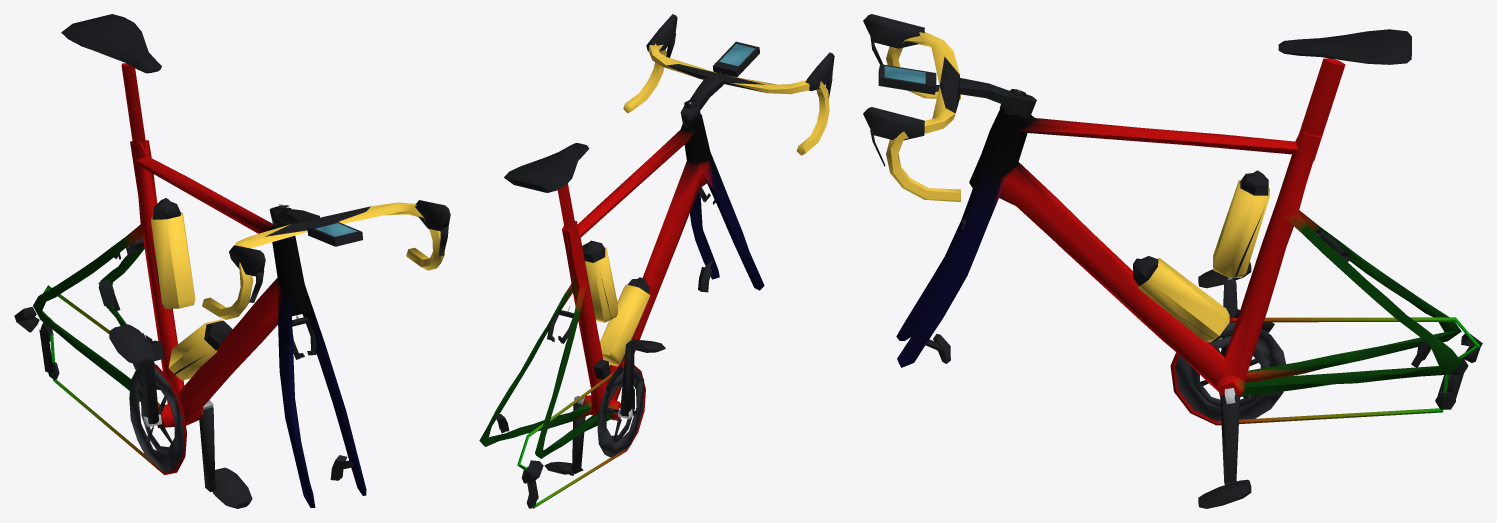
The model's file is aero_lod1.glb.
The picture shows the model from 3 angles, left to right: view 1: azimuth 30°, elevation 25°; view 2: azimuth 150°, elevation 25°; view 3: azimuth 270°, elevation 25°; orthographic projection. The views are drawn at different scales.
Parts seen in each view (by area): view 1: frame, cockpit, opt_bottles, crankset, saddle, pedal_R, opt_derailleur, pedal_L, opt_brakes_disc, opt_brakes_rim; view 2: frame, cockpit, opt_bottles, crankset, saddle, opt_derailleur, opt_brakes_disc, opt_brakes_rim; view 3: frame, cockpit, opt_bottles, crankset, saddle, opt_derailleur, pedal_L, opt_brakes_disc.
Boxes of the visible parts, x1=… form: frame: x1=33, y1=63, x2=366, y2=507; cockpit: x1=202, y1=200, x2=450, y2=319; opt_bottles: x1=149, y1=198, x2=232, y2=380; crankset: x1=129, y1=335, x2=215, y2=492; saddle: x1=61, y1=14, x2=161, y2=73; pedal_R: x1=109, y1=324, x2=155, y2=365; opt_derailleur: x1=14, y1=306, x2=164, y2=379; pedal_L: x1=212, y1=467, x2=252, y2=508; opt_brakes_disc: x1=98, y1=280, x2=353, y2=480; opt_brakes_rim: x1=114, y1=237, x2=316, y2=359; frame: x1=479, y1=114, x2=764, y2=508; cockpit: x1=623, y1=14, x2=834, y2=155; opt_bottles: x1=582, y1=240, x2=650, y2=366; crankset: x1=572, y1=340, x2=644, y2=473; saddle: x1=504, y1=143, x2=589, y2=192; opt_derailleur: x1=521, y1=359, x2=622, y2=508; opt_brakes_disc: x1=495, y1=260, x2=713, y2=433; opt_brakes_rim: x1=547, y1=187, x2=715, y2=343; frame: x1=896, y1=58, x2=1480, y2=425; cockpit: x1=863, y1=14, x2=1036, y2=201; opt_bottles: x1=1133, y1=170, x2=1269, y2=342; crankset: x1=1175, y1=279, x2=1285, y2=484; saddle: x1=1278, y1=29, x2=1411, y2=64; opt_derailleur: x1=1234, y1=309, x2=1482, y2=409; pedal_L: x1=1198, y1=479, x2=1251, y2=508; opt_brakes_disc: x1=926, y1=334, x2=1431, y2=367.
Size of the model in its own units: 0.4652 by 0.885 by 1.13.
